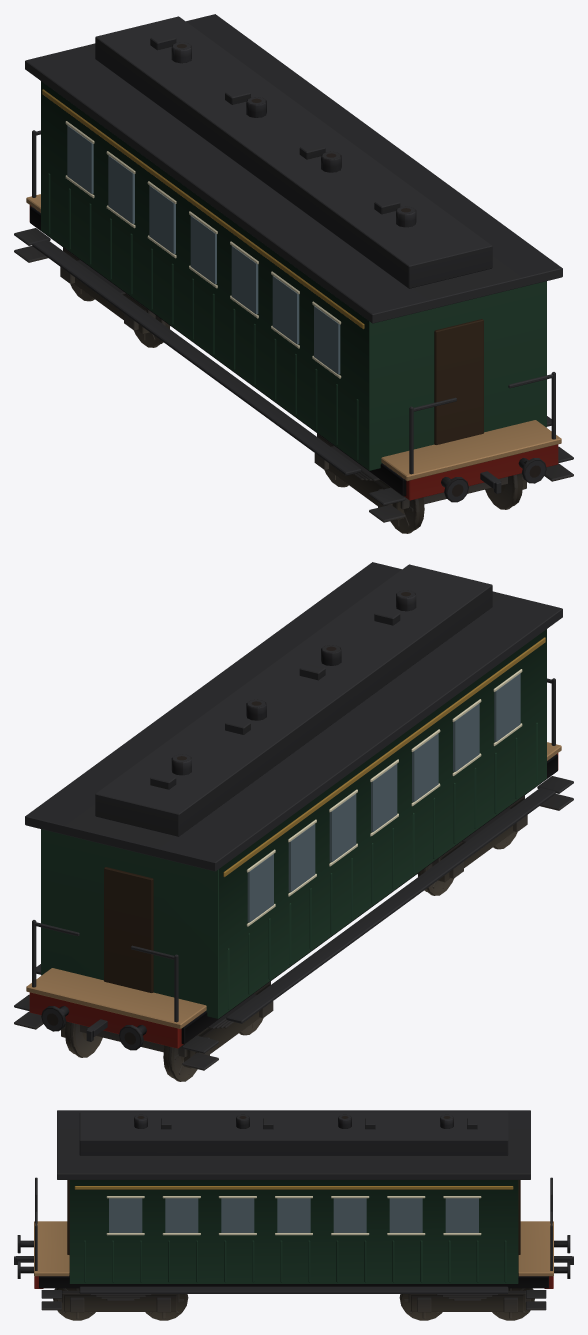
File: tren_vagon.glb
3 renders of one model, top to bottom at view 1: azimuth 30°, elevation 25°; view 2: azimuth 150°, elevation 25°; view 3: azimuth 270°, elevation 25°, orthographic. The views are drawn at different scales.
Parts seen in each view (by area): view 1: plank-body-001, dark-trim-003, dark-ends-002, window-side-001, dark-buffers-004, dark-006, dark-frame-001, dark-011, dark-wheel-008, dark-wheel-007; view 2: plank-body-001, dark-trim-003, dark-ends-002, window-side-001, dark-buffers-005, dark-011, dark-frame-001, dark-006, dark-wheel-015, dark-wheel-014; view 3: plank-body-001, dark-trim-003, window-side-001, dark-ends-002, dark-frame-001, dark-006, dark-011, dark-buffers-004, dark-buffers-005, dark-wheel-010, dark-wheel-013, dark-wheel-008 (+1 smaller).
Part boxes in pixels (x1=…): plank-body-001: x1=25, y1=14, x2=562, y2=470; dark-trim-003: x1=14, y1=33, x2=573, y2=522; dark-ends-002: x1=26, y1=130, x2=561, y2=481; window-side-001: x1=67, y1=125, x2=340, y2=374; dark-buffers-004: x1=404, y1=444, x2=558, y2=502; dark-006: x1=314, y1=433, x2=527, y2=520; dark-frame-001: x1=30, y1=206, x2=406, y2=496; dark-011: x1=60, y1=247, x2=155, y2=334; dark-wheel-008: x1=485, y1=473, x2=522, y2=509; dark-wheel-007: x1=390, y1=497, x2=424, y2=533; plank-body-001: x1=25, y1=562, x2=562, y2=1018; dark-trim-003: x1=14, y1=590, x2=573, y2=1070; dark-ends-002: x1=26, y1=678, x2=561, y2=1029; window-side-001: x1=247, y1=673, x2=520, y2=922; dark-buffers-005: x1=29, y1=992, x2=183, y2=1050; dark-011: x1=60, y1=981, x2=273, y2=1068; dark-frame-001: x1=181, y1=754, x2=557, y2=1044; dark-006: x1=432, y1=795, x2=527, y2=882; dark-wheel-015: x1=65, y1=1021, x2=102, y2=1057; dark-wheel-014: x1=163, y1=1045, x2=197, y2=1081; plank-body-001: x1=57, y1=1110, x2=530, y2=1283; dark-trim-003: x1=41, y1=1114, x2=546, y2=1310; window-side-001: x1=109, y1=1198, x2=478, y2=1232; dark-ends-002: x1=34, y1=1177, x2=553, y2=1276; dark-frame-001: x1=39, y1=1276, x2=548, y2=1288; dark-006: x1=62, y1=1290, x2=179, y2=1312; dark-011: x1=408, y1=1290, x2=525, y2=1312; dark-buffers-004: x1=14, y1=1235, x2=43, y2=1288; dark-buffers-005: x1=544, y1=1235, x2=573, y2=1288; dark-wheel-010: x1=145, y1=1294, x2=188, y2=1320; dark-wheel-013: x1=399, y1=1294, x2=442, y2=1320; dark-wheel-008: x1=53, y1=1288, x2=95, y2=1320.
Size of the model in its own units: 3.25 by 4.04 by 10.98.
